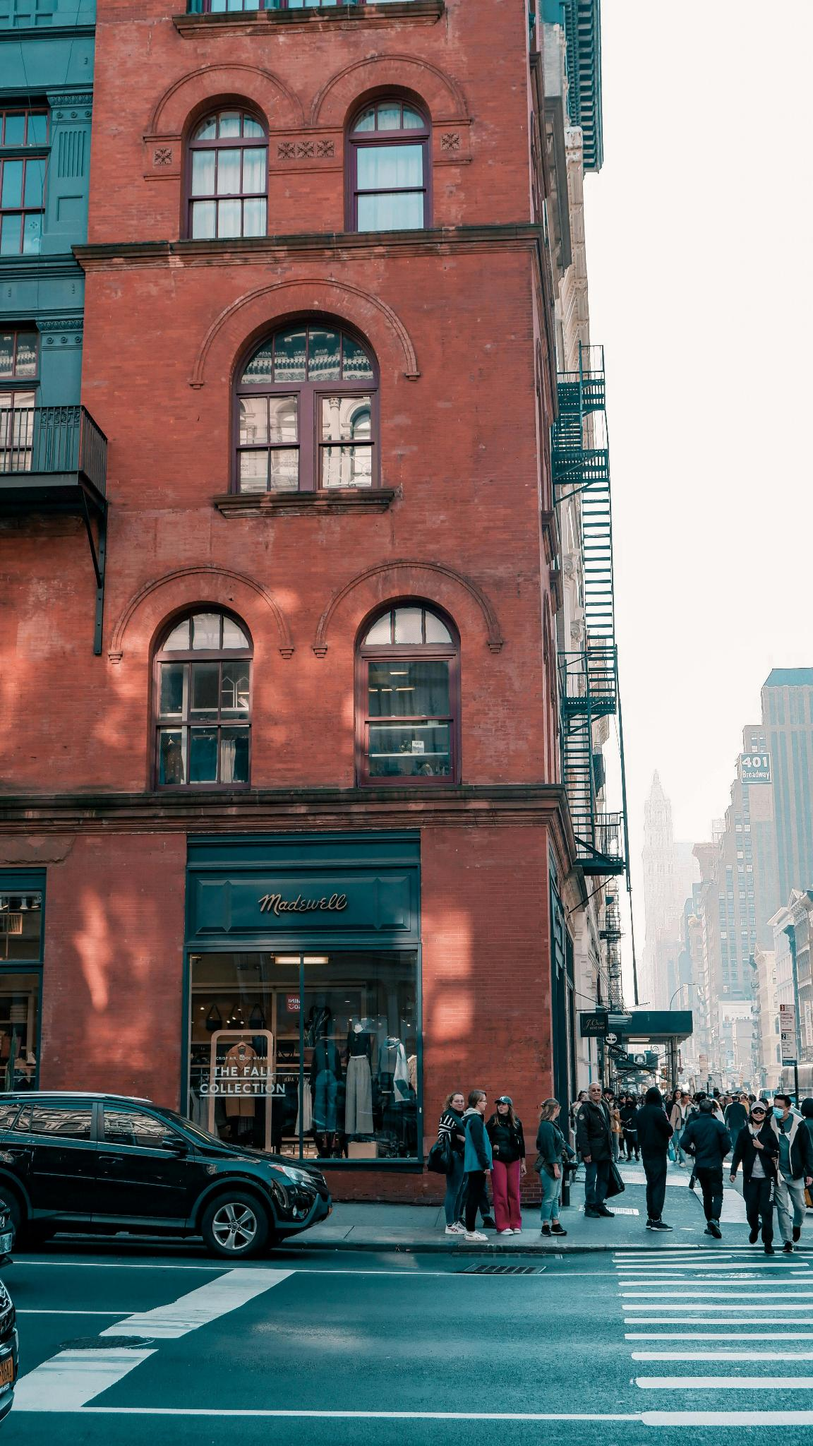car: (6, 1080, 334, 1251)
pedestrian: (734, 1103, 779, 1259), (686, 1103, 731, 1249), (488, 1098, 525, 1240), (639, 1081, 674, 1230), (461, 1095, 494, 1240), (774, 1095, 802, 1254), (581, 1081, 612, 1215), (536, 1102, 566, 1238), (787, 1100, 813, 1253), (442, 1092, 467, 1238), (723, 1092, 748, 1174)
